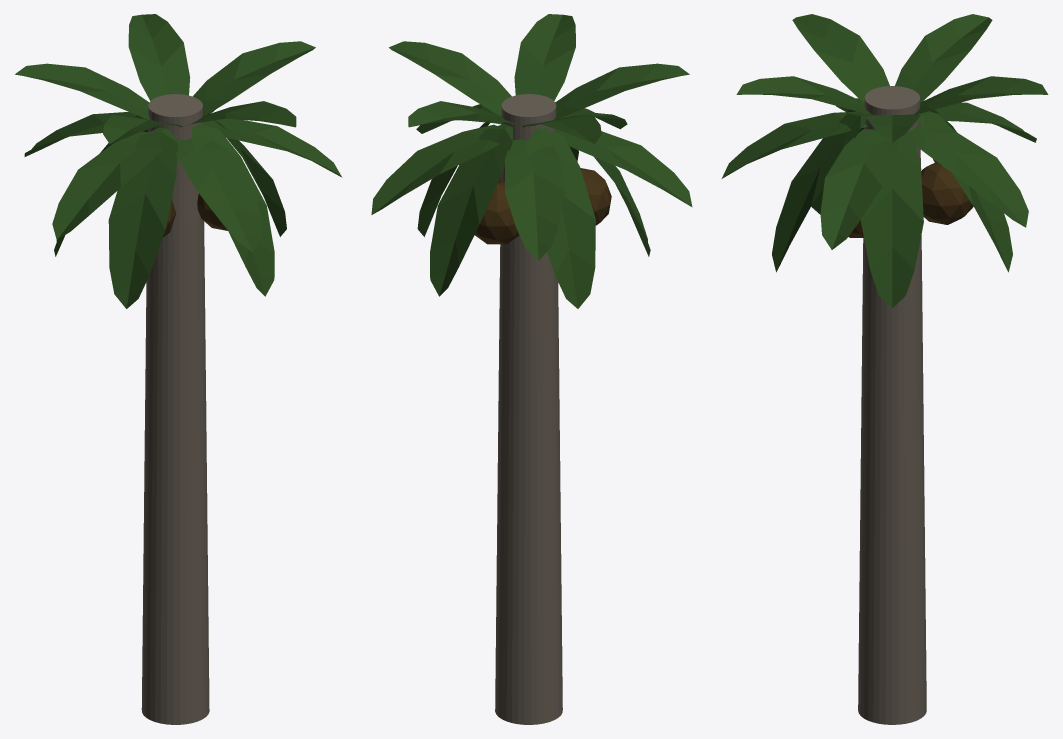
Rendered from palm_Tree.fbx.
The picture shows the model from 3 angles, left to right: view 1: azimuth 30°, elevation 25°; view 2: azimuth 150°, elevation 25°; view 3: azimuth 270°, elevation 25°; orthographic projection.
Visible parts, largest first — view 1: Tree_Sand; view 2: Tree_Sand; view 3: Tree_Sand.
Part boxes in pixels (left/top/right/bottom): Tree_Sand: left=15, top=14, right=342, bottom=724; Tree_Sand: left=371, top=14, right=692, bottom=724; Tree_Sand: left=721, top=14, right=1048, bottom=724.
Size of the model in its own units: 136 by 292 by 135.
